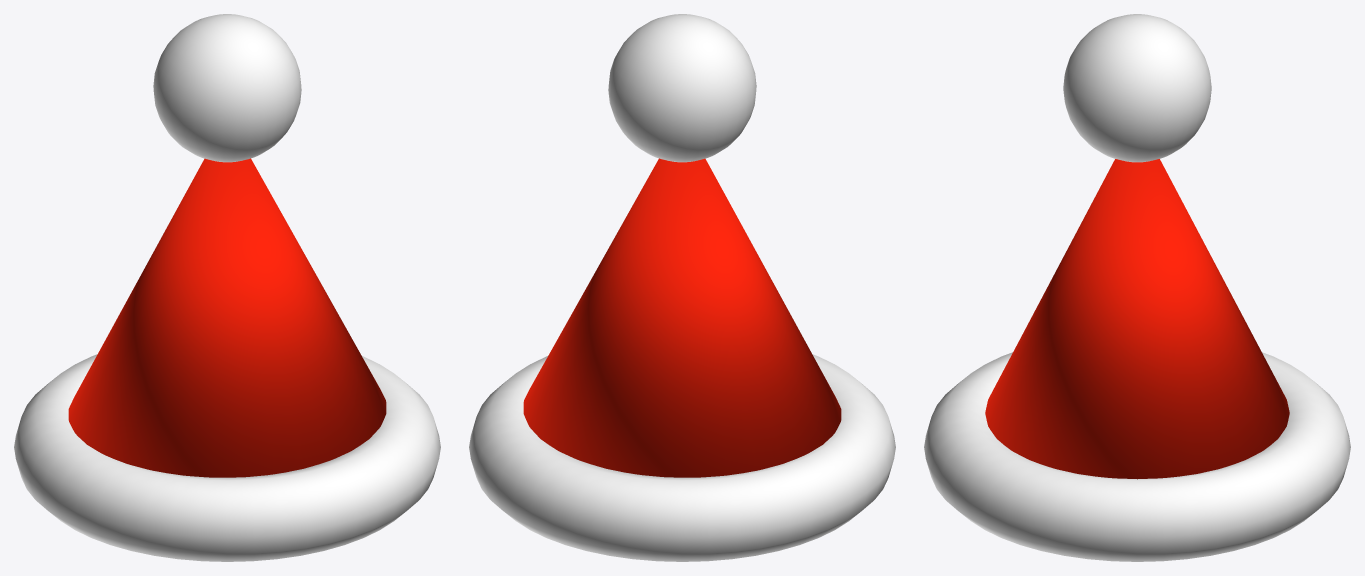
The model's file is Santa Hat.fbx.
The picture shows the model from 3 angles, left to right: view 1: azimuth 30°, elevation 25°; view 2: azimuth 150°, elevation 25°; view 3: azimuth 270°, elevation 25°; orthographic projection.
Visible parts, largest first — view 1: Cone, Torus, Sphere; view 2: Cone, Torus, Sphere; view 3: Cone, Torus, Sphere.
Boxes of the visible parts, x1,y1,x2,y2 form: Cone: (68,158,386,477); Torus: (14,354,440,561); Sphere: (153,14,301,162); Cone: (523,158,841,477); Torus: (469,354,895,561); Sphere: (608,14,756,162); Cone: (985,159,1289,479); Torus: (924,352,1350,561); Sphere: (1063,14,1211,162).
Bounding box in the file's own units: 250 × 301 × 250.
